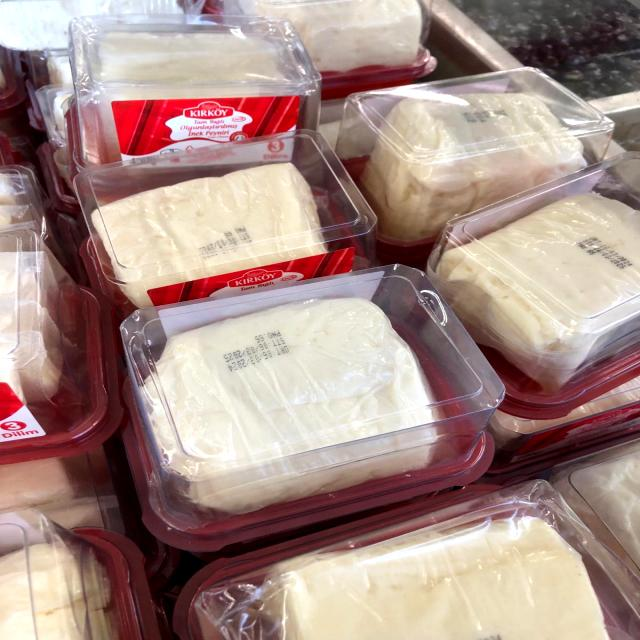cheese: (134, 295, 446, 511), (354, 91, 594, 247), (87, 160, 333, 310)
